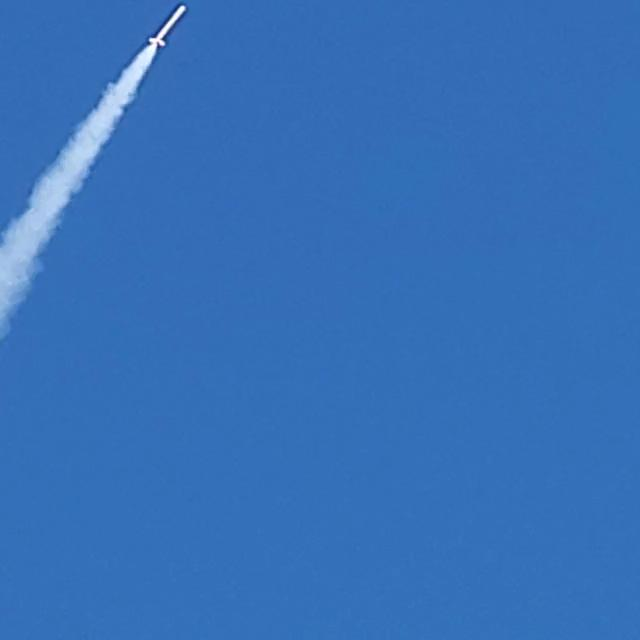rocket: (147, 4, 186, 58)
